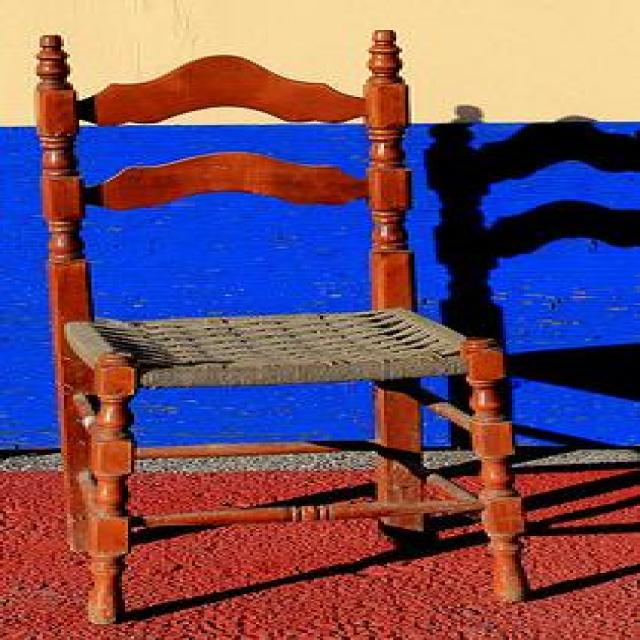chair: (31, 28, 530, 624)
